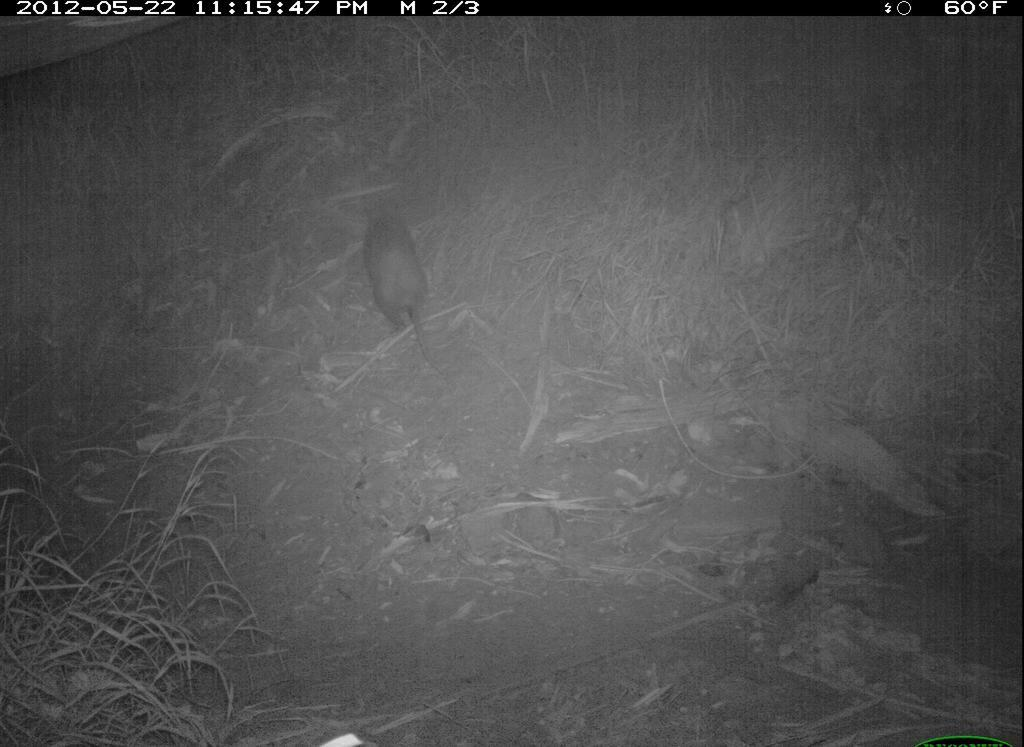opossum: (346, 180, 465, 386)
